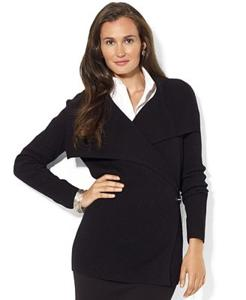S_cardigan sweater: (2, 77, 216, 294)
